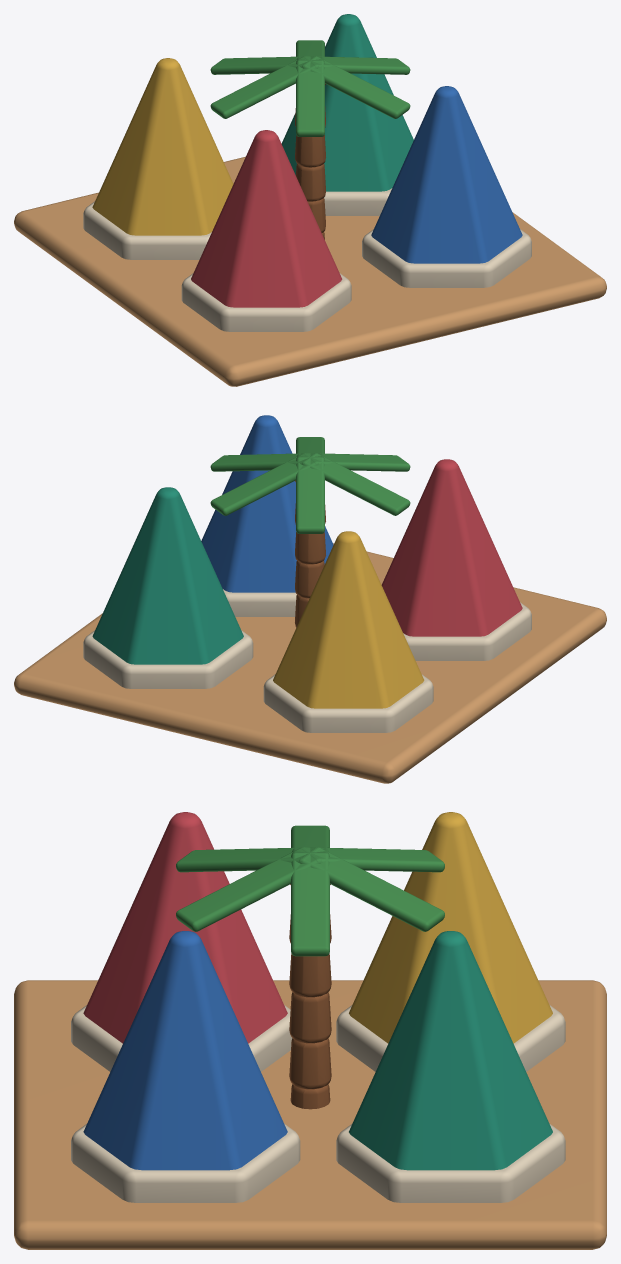
3 views of the same model, one above another, from view 1: azimuth 30°, elevation 25°; view 2: azimuth 150°, elevation 25°; view 3: azimuth 270°, elevation 25° (orthographic). The views are drawn at different scales.
Parts seen in each view (by area): view 1: Cube; view 2: Cube; view 3: Cube.
Part boxes in pixels (x1,y1,x2,y2): Cube: (14,14,606,386); Cube: (14,415,606,783); Cube: (14,812,606,1249).
Size of the model in its own units: 0.76 by 0.3905 by 0.76.
